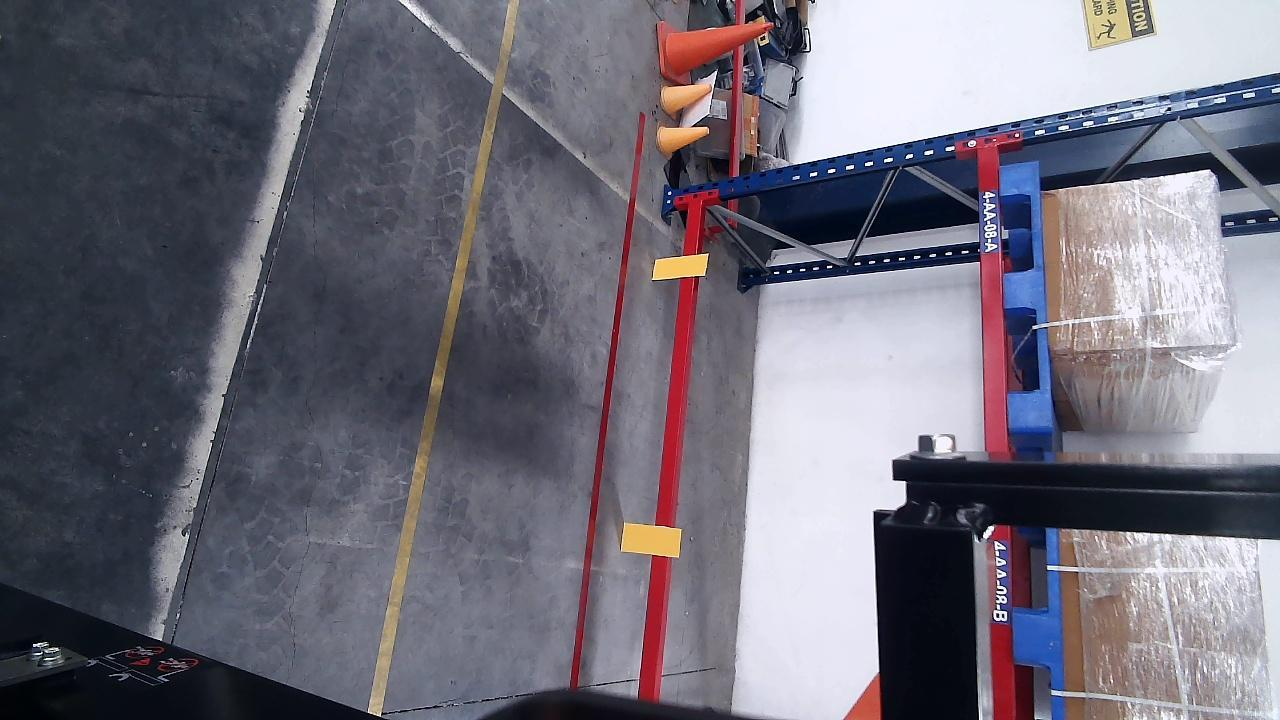h_rack: (638, 197, 701, 703), (976, 145, 1016, 720)
orange_strip: (655, 254, 709, 277)
red_line: (569, 111, 647, 685)
small_pallet: (1005, 160, 1055, 429), (621, 523, 681, 556)
yellow_line: (366, 0, 521, 718)
